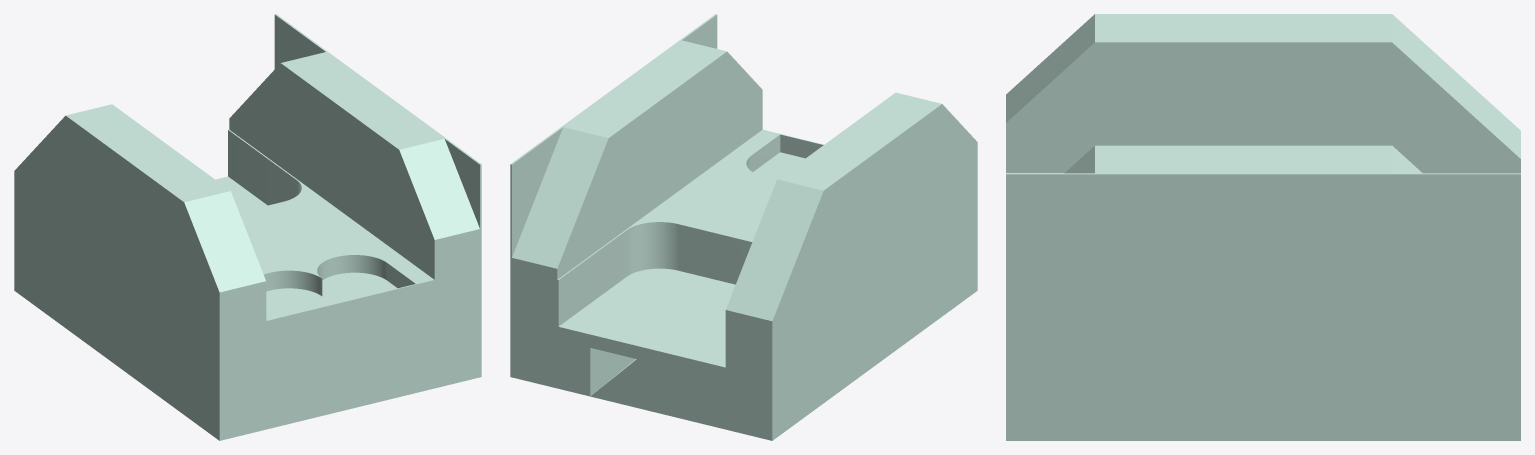
3 renders of one model, left to right at view 1: azimuth 30°, elevation 25°; view 2: azimuth 150°, elevation 25°; view 3: azimuth 270°, elevation 25°, orthographic. The views are drawn at different scales.
Visible parts, largest first — view 1: Renderer Node; view 2: Renderer Node; view 3: Renderer Node.
Part boxes in pixels (<box>): Renderer Node: <box>14,14,481,440</box>; Renderer Node: <box>510,14,977,440</box>; Renderer Node: <box>1006,14,1520,440</box>.
Bounding box in the file's own units: 0.9671 × 0.75 × 1.31.
